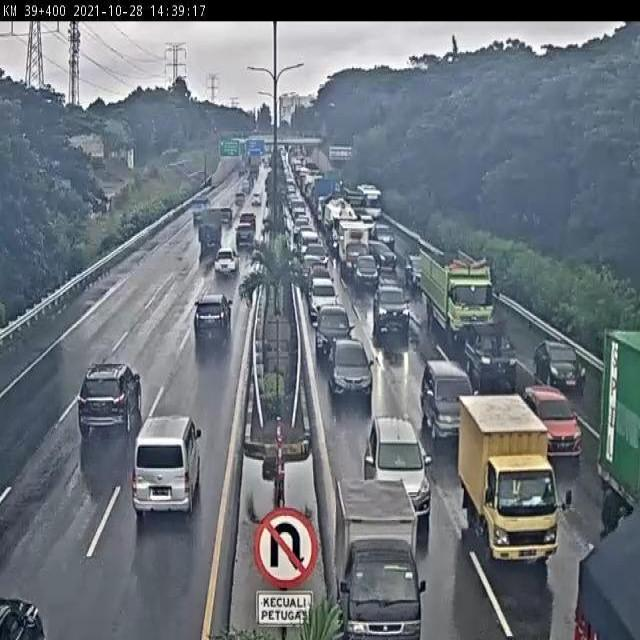big truck: (416, 243, 503, 345), (591, 329, 640, 508)
car: (63, 336, 158, 453), (361, 404, 435, 528), (129, 401, 206, 520), (518, 372, 580, 452), (409, 337, 465, 424), (528, 329, 592, 388), (324, 334, 378, 402), (307, 297, 355, 359), (192, 289, 236, 352), (366, 278, 414, 334), (399, 245, 424, 292), (228, 228, 259, 261), (212, 247, 242, 281), (236, 211, 262, 237)
mid truck: (448, 382, 566, 578), (573, 508, 640, 640), (190, 200, 225, 260)
small truck: (318, 456, 428, 640), (460, 320, 518, 388)
